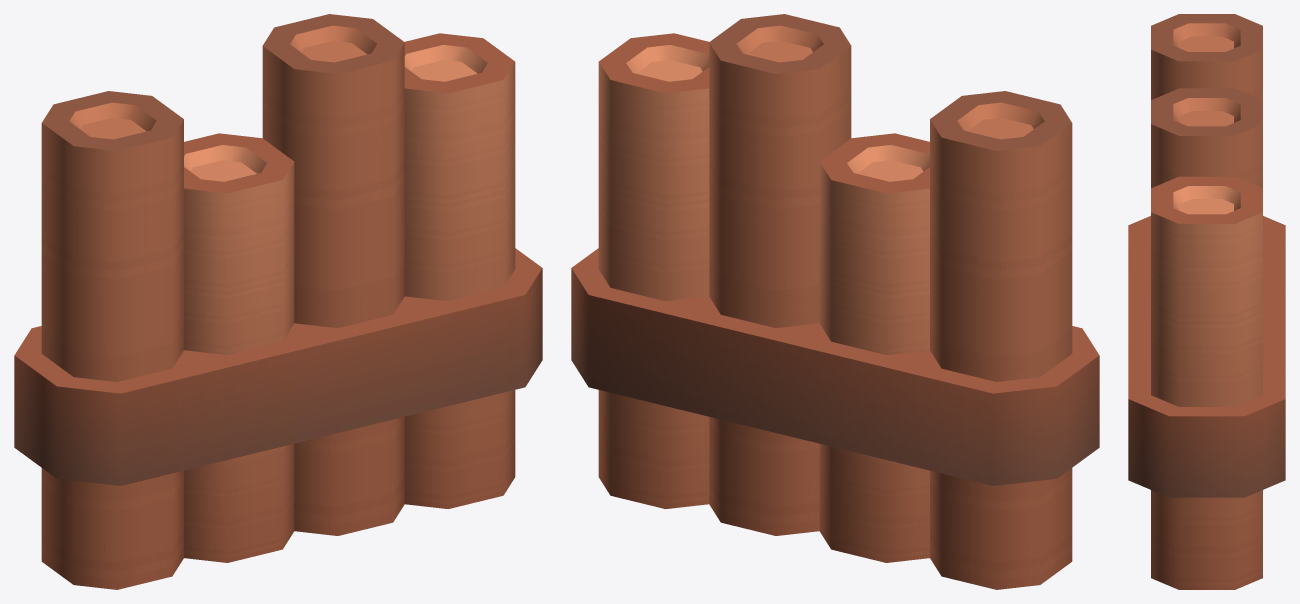
Rendered from poles.glb.
3 views of the same model, side by side, from view 1: azimuth 30°, elevation 25°; view 2: azimuth 150°, elevation 25°; view 3: azimuth 270°, elevation 25° (orthographic). The views are drawn at different scales.
Visible parts, largest first — view 1: poles; view 2: poles; view 3: poles.
Boxes of the visible parts, x1,y1,x2,y2 form: poles: [14, 14, 542, 589]; poles: [571, 14, 1099, 589]; poles: [1128, 14, 1285, 589].
Size of the model in its own units: 1.1 by 1 by 0.35.
Materials: 1 (1 with a texture image).
